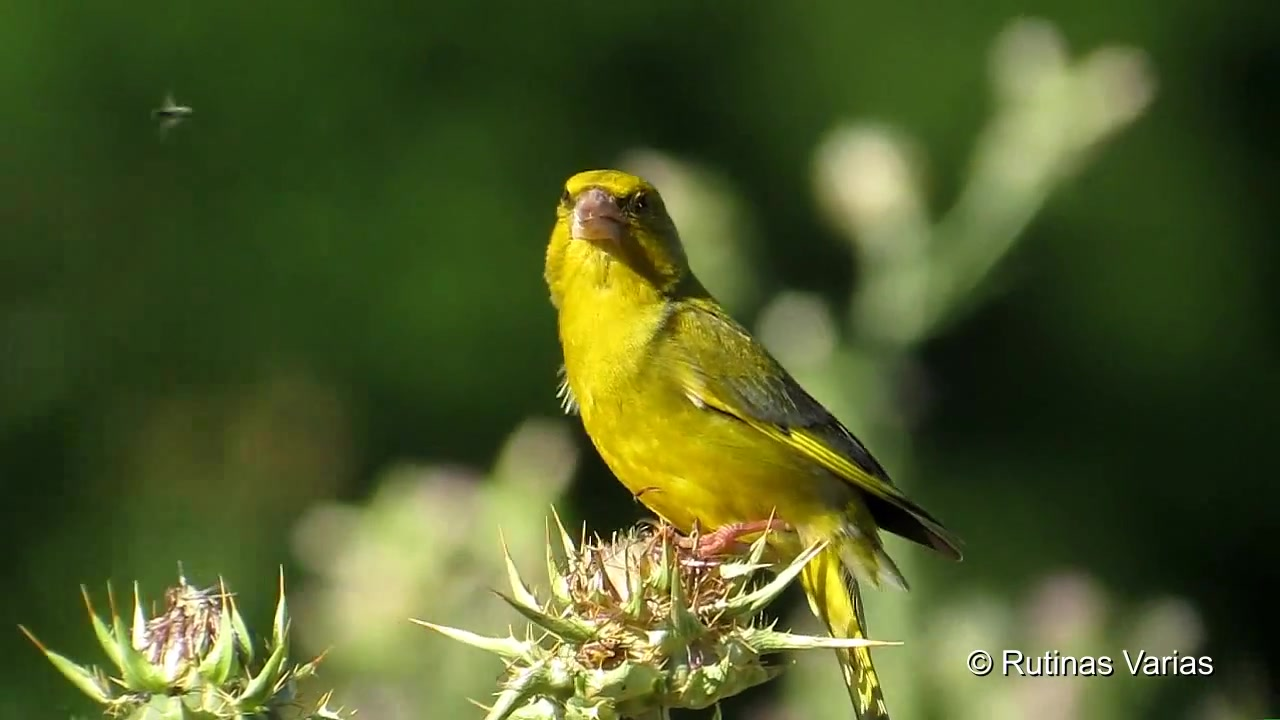bird: (546, 170, 967, 718)
